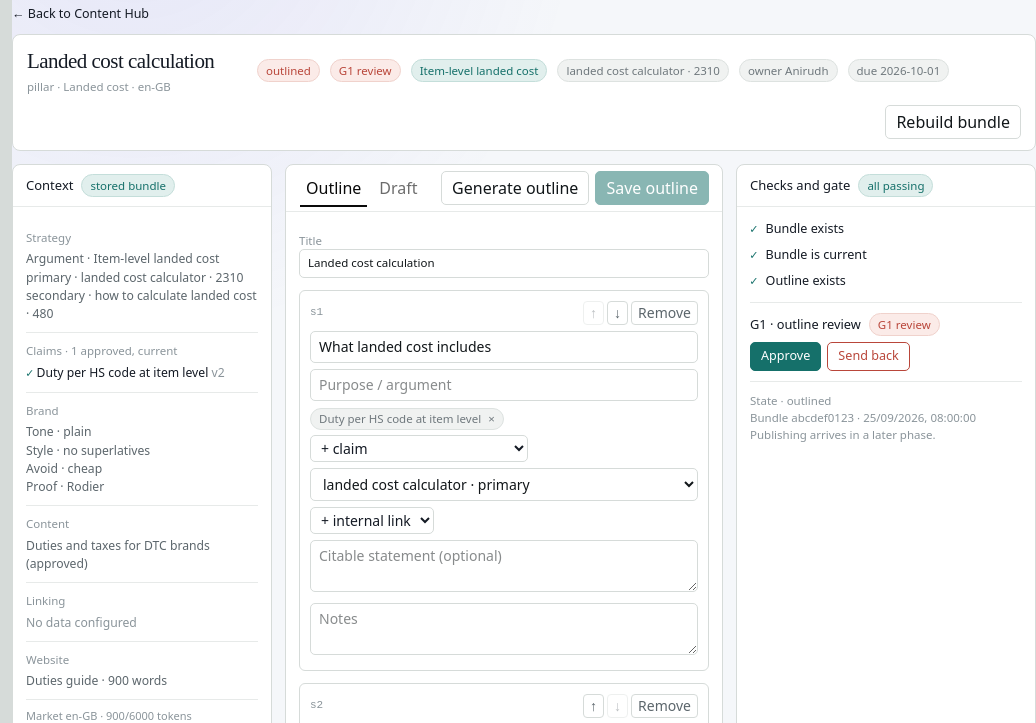
Scenario: V3 G1 review and draft › shows the G1 review state and approves only after confirmation, with the revision
Check: the heading "Landed cost calculation" is shown, box [27, 46, 247, 78]
Check: the text with test id "g1-status" in the row of "Landed cost calculation" reads "G1 review", box [339, 63, 392, 78]
Click the button "Approve": [786, 356] box [750, 342, 821, 371]
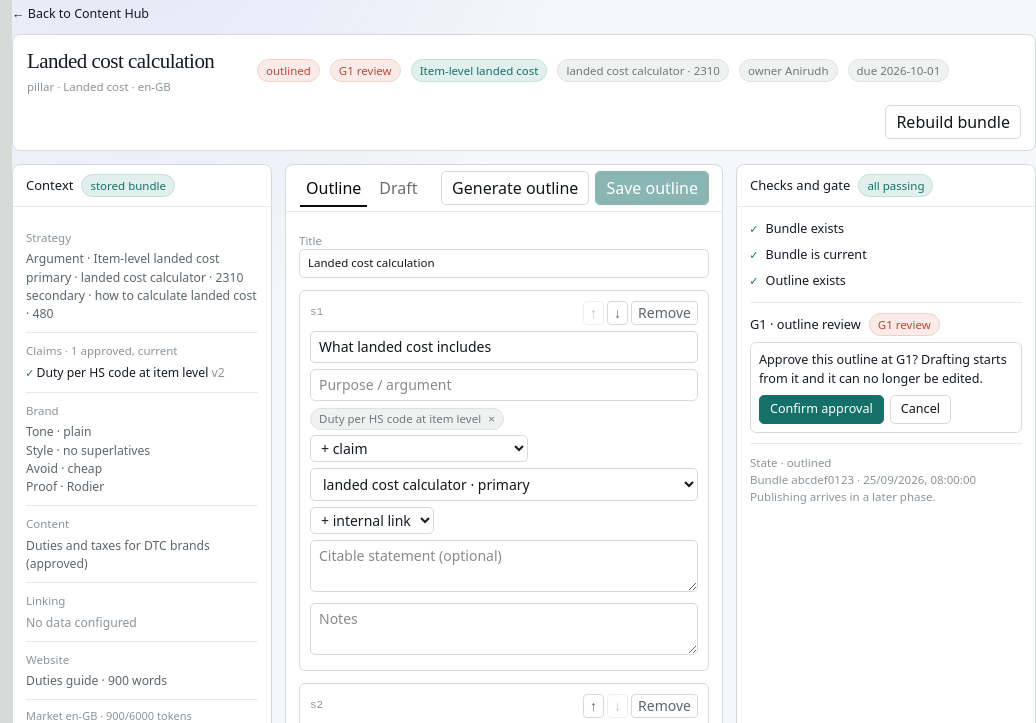
Click the button "Confirm approval": [821, 409] box [759, 395, 884, 424]
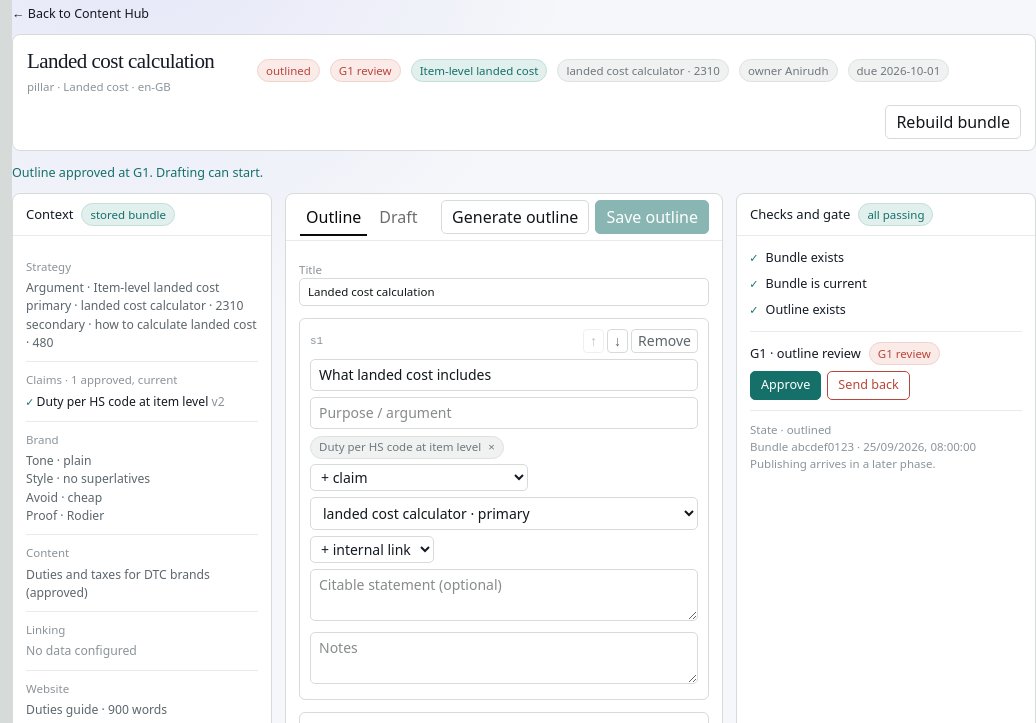
Check: the text "Outline approved at G1. Drafting can start." is shown, box [12, 164, 263, 181]
